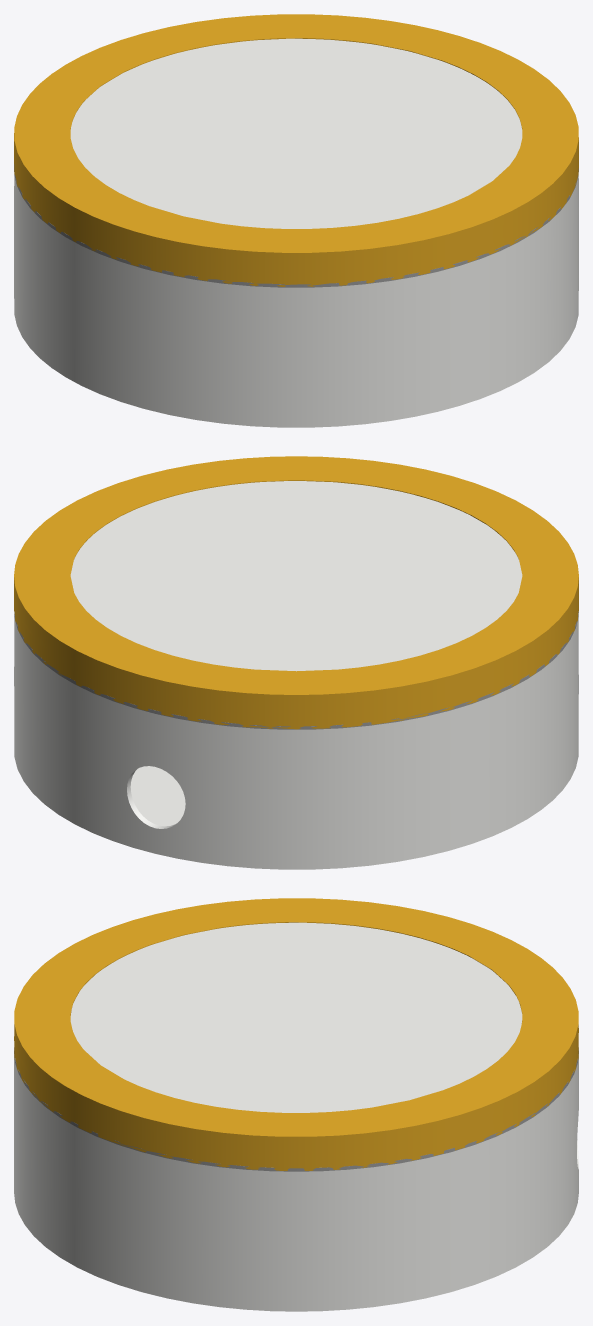
File: Gauge2022.fbx
3 views of the same model, one above another, from view 1: azimuth 30°, elevation 25°; view 2: azimuth 150°, elevation 25°; view 3: azimuth 270°, elevation 25° (orthographic).
Visible parts, largest first — view 1: Body1 (×4); view 2: Body1 (×4); view 3: Body1 (×4).
Part boxes in pixels (<box>): Body1 (×4): <box>14,14,578,427</box>; Body1 (×4): <box>14,456,578,869</box>; Body1 (×4): <box>14,898,578,1311</box>.
Bounding box in the file's own units: 150 × 51.2 × 150.
